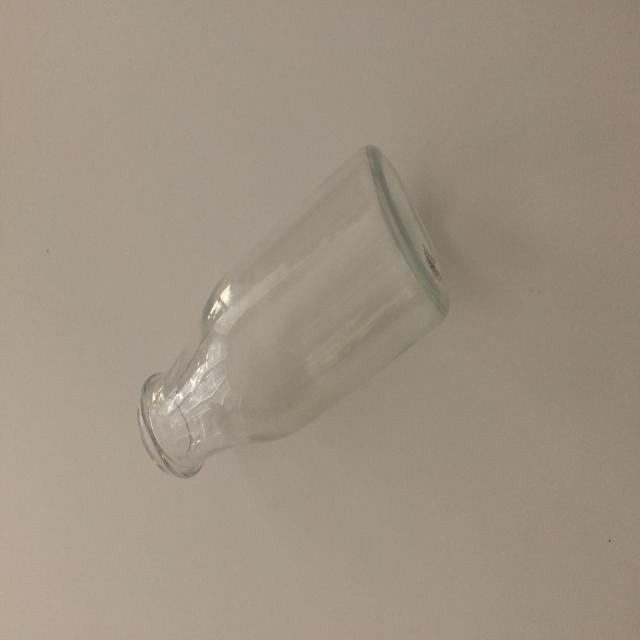glass: (137, 142, 450, 479)
